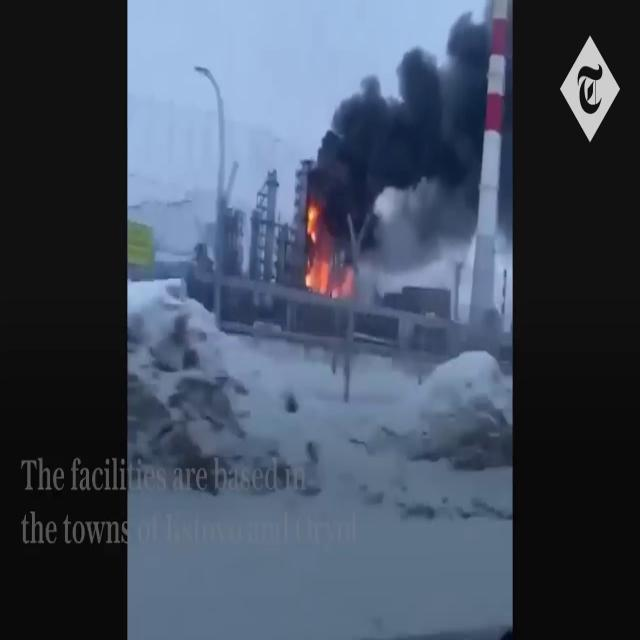Fire: (301, 196, 336, 298)
Smoke: (308, 14, 492, 250)
